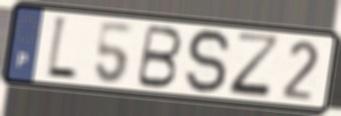2: (280, 39, 322, 104)
5: (92, 18, 133, 86)
B: (134, 23, 185, 91)
L: (44, 12, 80, 84)
S: (183, 26, 233, 97)
Z: (227, 30, 284, 102)
